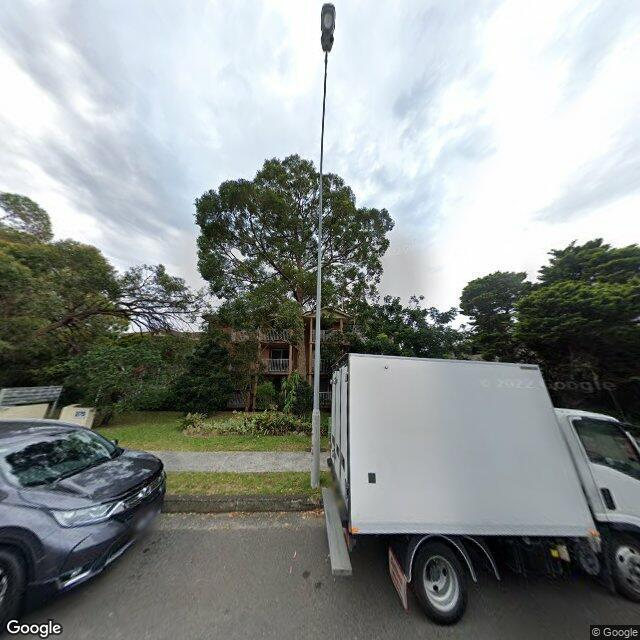steel-pole: (311, 173, 322, 488)
streetlight: (320, 2, 335, 174)
